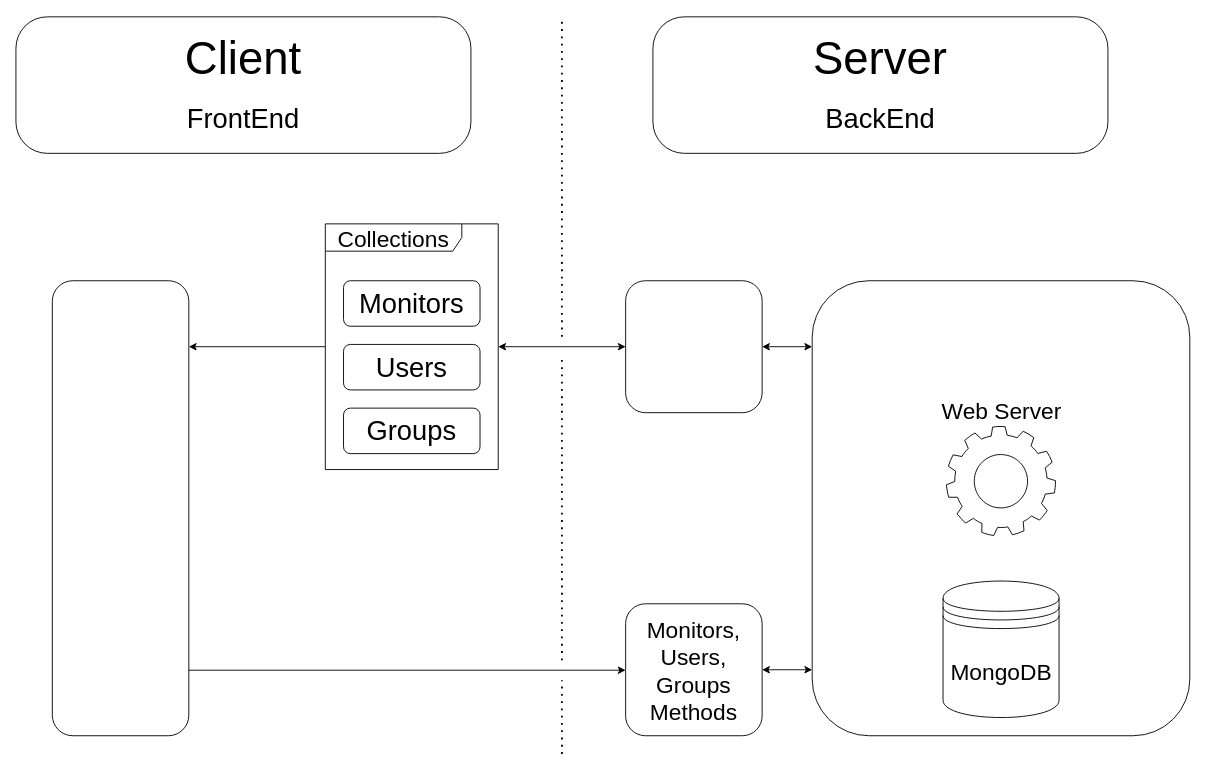
Some shapes in this 1206 by 771 pixel diagram are drawn without their labels. The shapes that lost their labels are listed below. From the top down, each one's box as (x1, y1, x2, y2) in pixels, then its label:
(625, 280, 762, 413): Monitors, Users, Groups Publish
(51, 280, 189, 736): ReactJS + MaterialUI + Router
(811, 280, 1190, 736): Meteor
